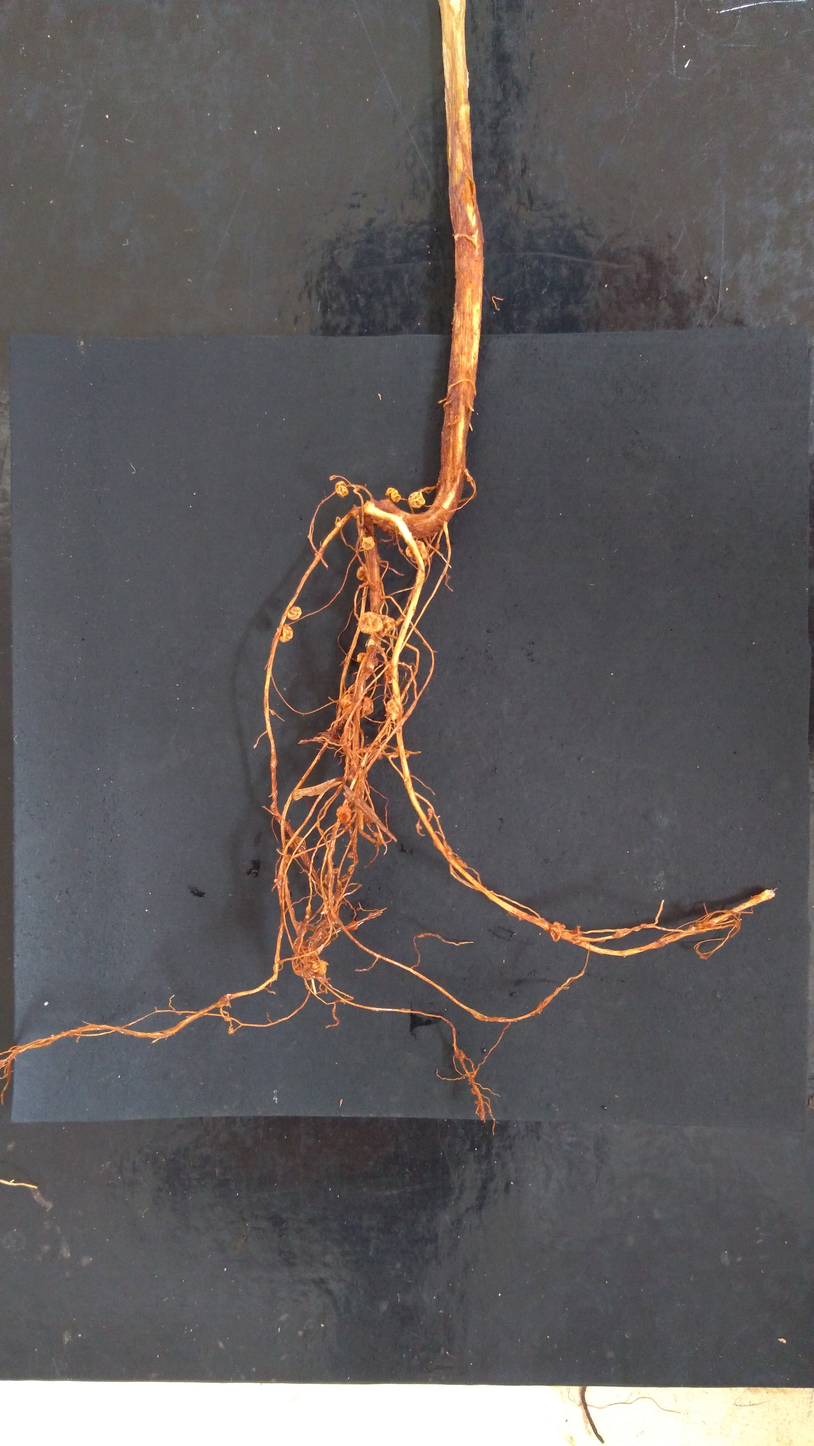nodule: (294, 947, 325, 981), (340, 693, 374, 719), (358, 612, 383, 634), (405, 539, 428, 561), (375, 613, 396, 637), (385, 698, 405, 721), (352, 805, 375, 824), (346, 765, 368, 784), (386, 657, 400, 684), (356, 651, 379, 667), (549, 921, 566, 942), (277, 623, 293, 644), (408, 491, 426, 509), (336, 805, 352, 825), (289, 836, 307, 853), (385, 487, 401, 503), (311, 959, 328, 974), (335, 480, 349, 498), (360, 535, 375, 551), (356, 564, 369, 582), (287, 605, 302, 620), (216, 994, 232, 1007), (702, 920, 717, 928), (394, 617, 404, 627), (284, 853, 292, 864), (346, 850, 355, 859), (573, 925, 581, 935), (426, 806, 434, 816), (404, 749, 411, 759), (336, 520, 342, 529), (466, 476, 473, 482), (273, 878, 278, 883)
